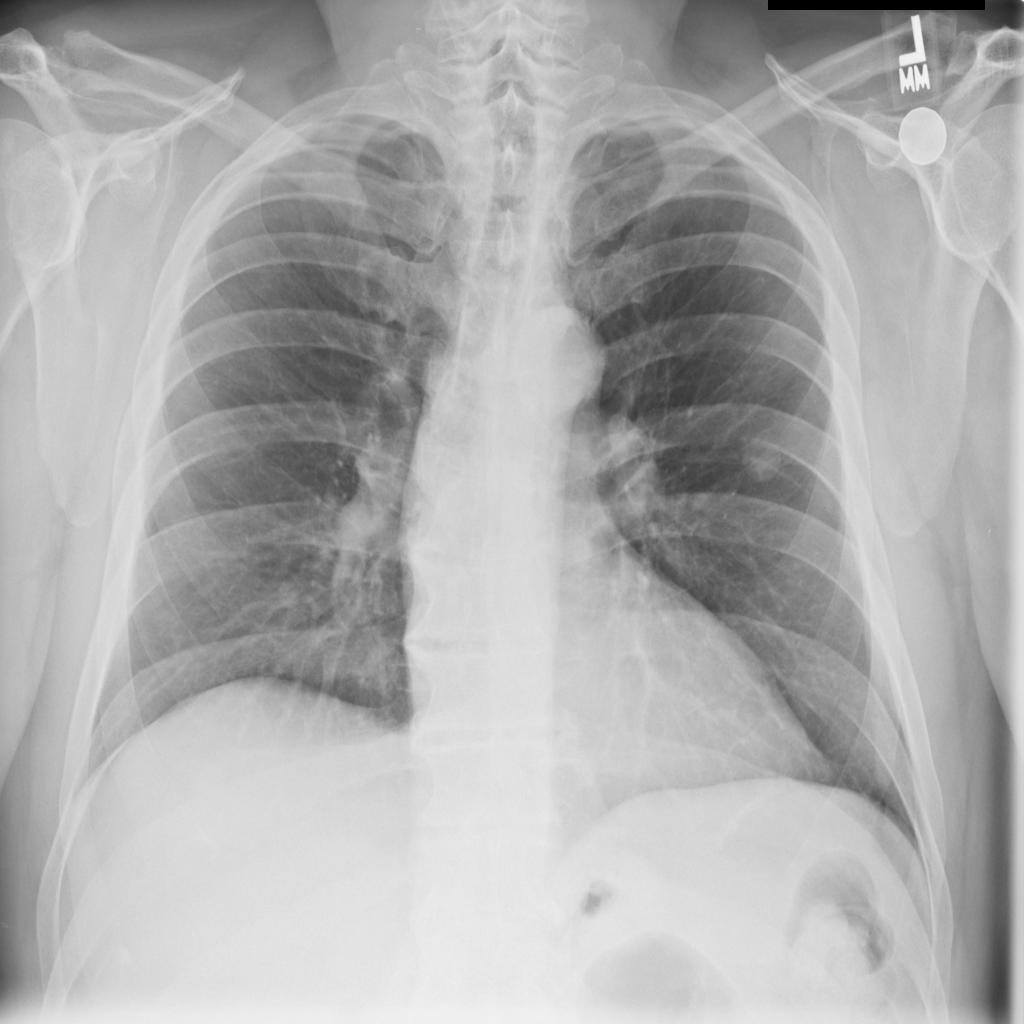nodule: (730, 415, 799, 496), (264, 568, 316, 619)
